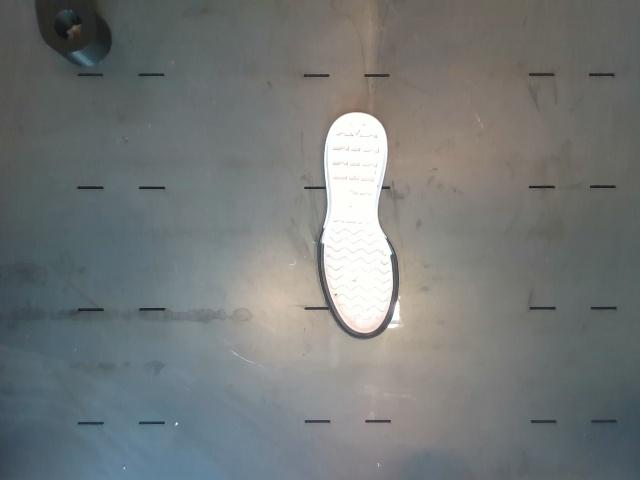shoes: (320, 114, 395, 338)
